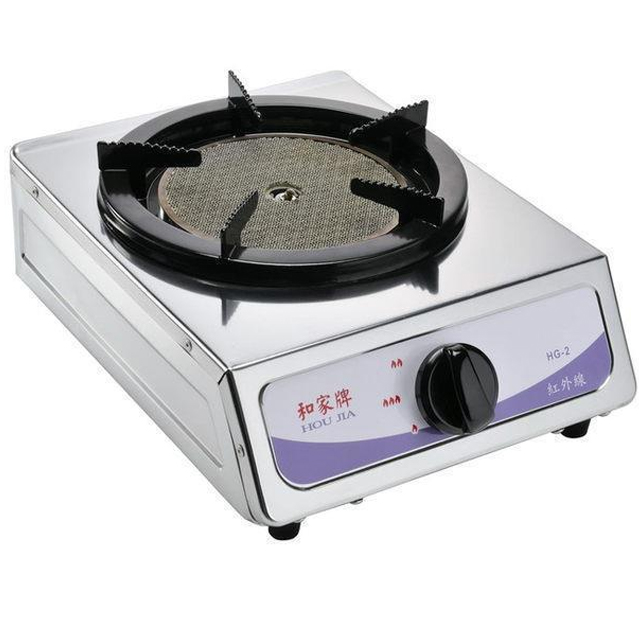gasoven: (5, 59, 640, 542)
